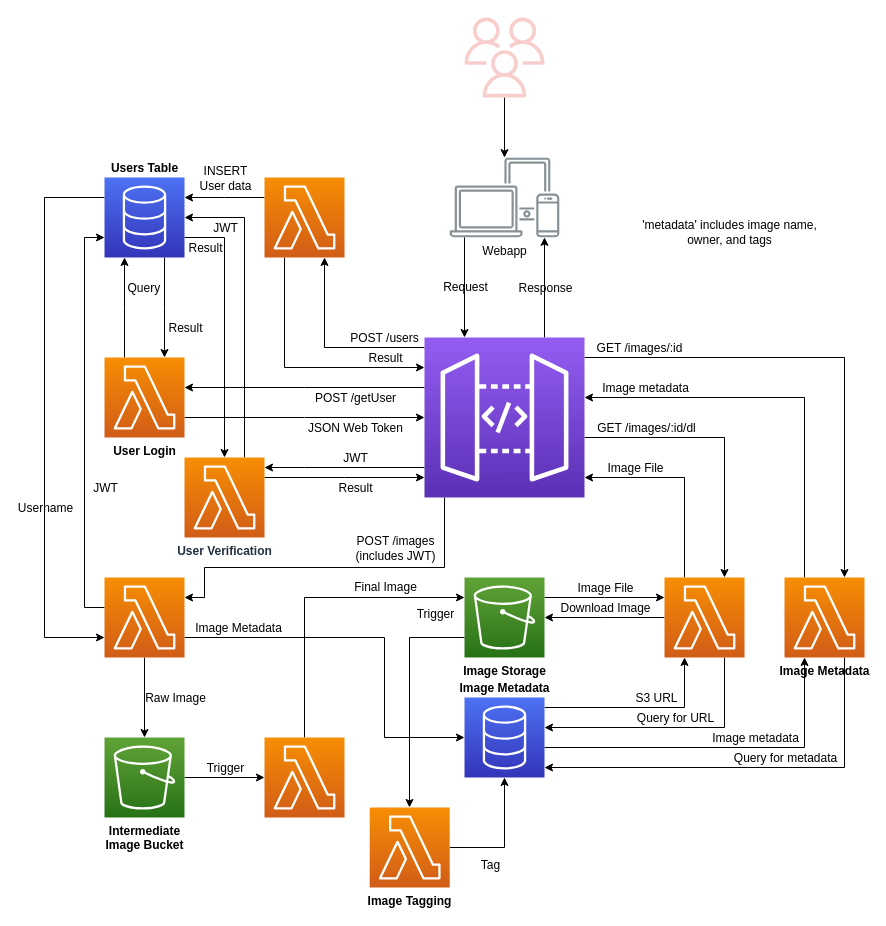
Image size: 886x926. Some labels were removed from this diagram. Each missing label, with the box of its shape:
API Gateway: (424, 336, 584, 498)
Image Downloading: (664, 576, 744, 658)
Image Resizing: (264, 736, 344, 818)
Image Uploading: (104, 576, 184, 658)
User Creation: (264, 176, 344, 258)
